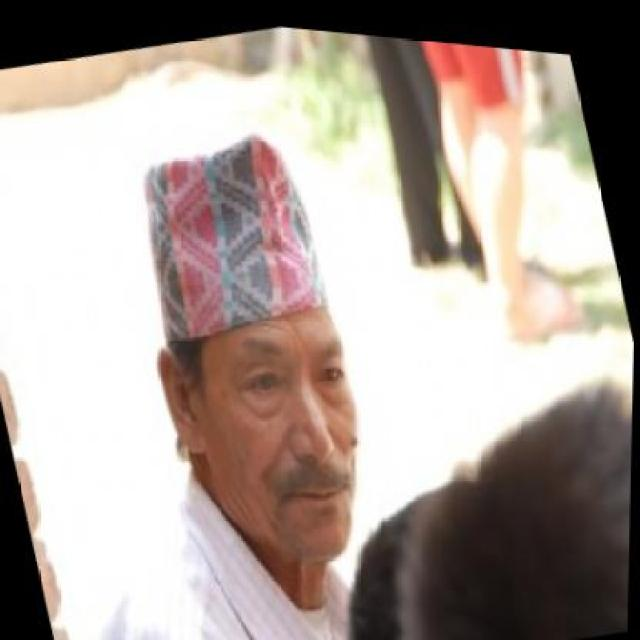hat: (119, 100, 352, 360)
